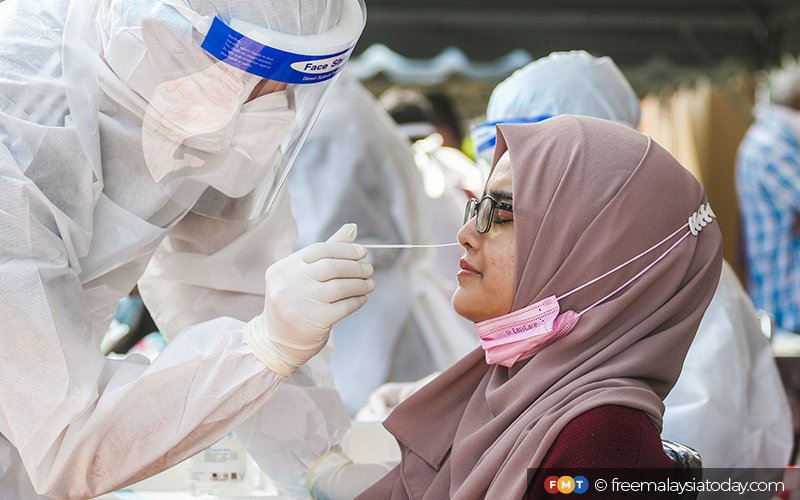Coverall: (1, 1, 358, 494)
Face_Shield: (180, 3, 368, 235)
Gloves: (249, 219, 376, 379), (294, 448, 413, 500)
mask_weared_incorrect: (450, 162, 562, 365)
with_mask: (208, 68, 300, 206)
